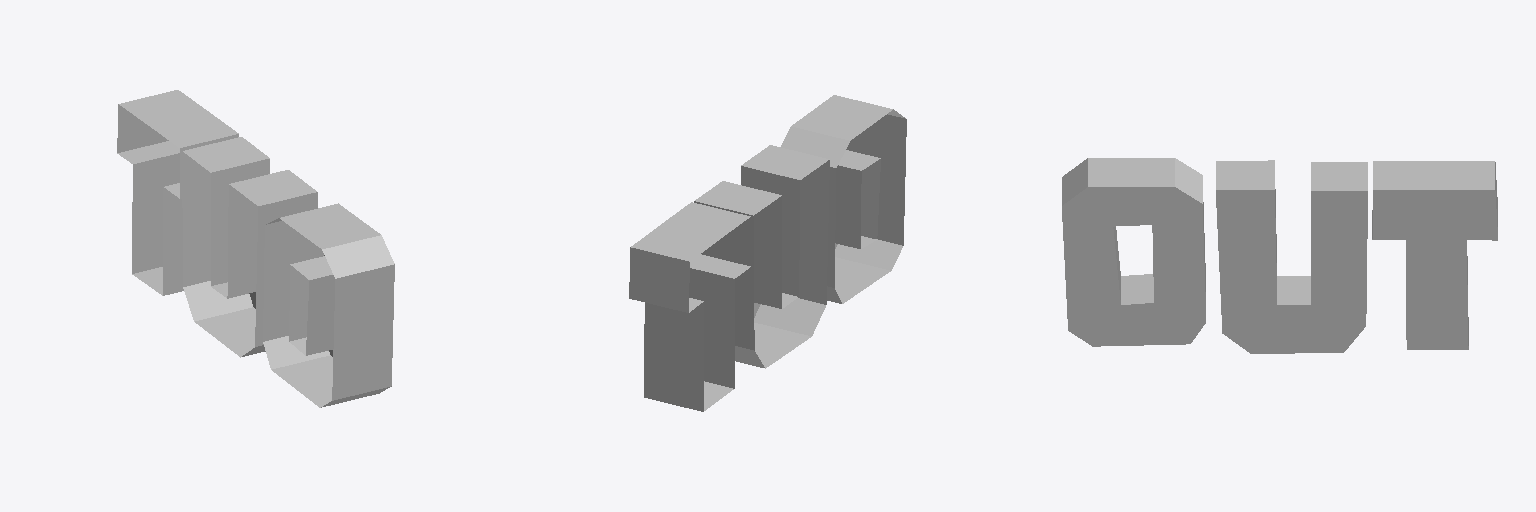
Rendered from typemesh_out.obj.
The picture shows the model from 3 angles: view 1: azimuth 30°, elevation 25°; view 2: azimuth 150°, elevation 25°; view 3: azimuth 270°, elevation 25°; orthographic projection.
Visible parts, largest first — view 1: typeMesh_out group2; view 2: typeMesh_out group2; view 3: typeMesh_out group2.
Boxes of the visible parts, <box> form: typeMesh_out group2: <box>117,90,394,407</box>; typeMesh_out group2: <box>629,95,906,411</box>; typeMesh_out group2: <box>1062,158,1497,353</box>.
Bounding box in the file's own units: 0.0856 × 0.2299 × 0.5426.